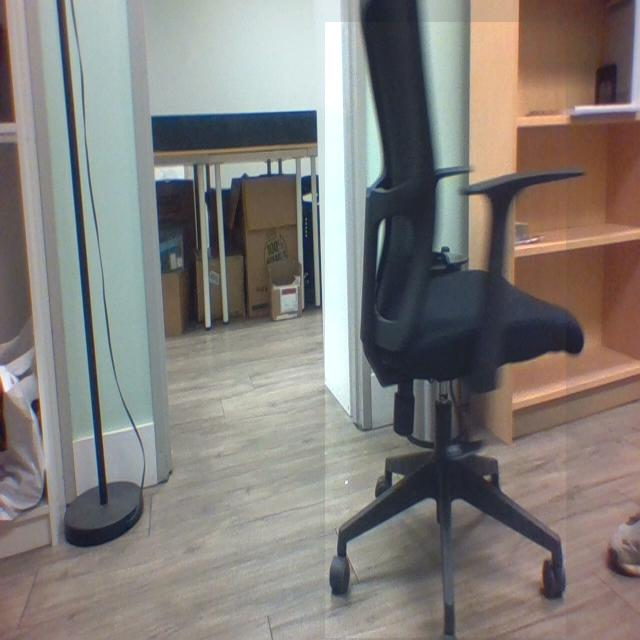black-chair: (325, 22, 567, 639)
